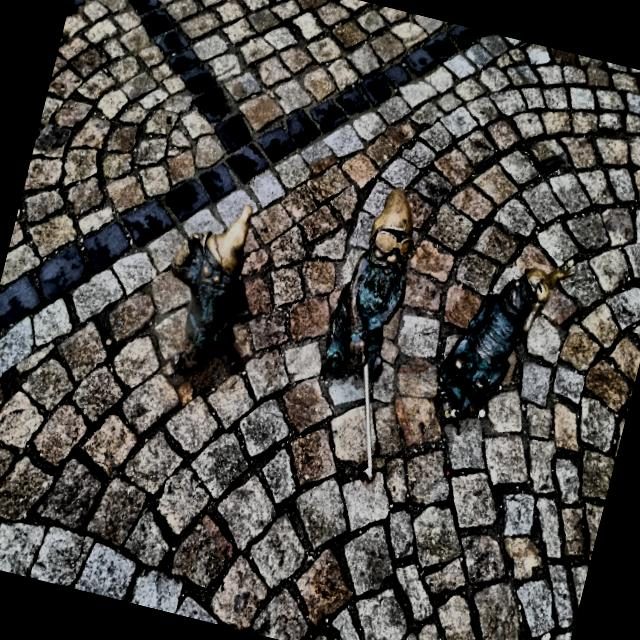Gluchak: (173, 206, 250, 372)
Slepak: (324, 187, 413, 478)
W-Skers: (441, 261, 571, 416)
